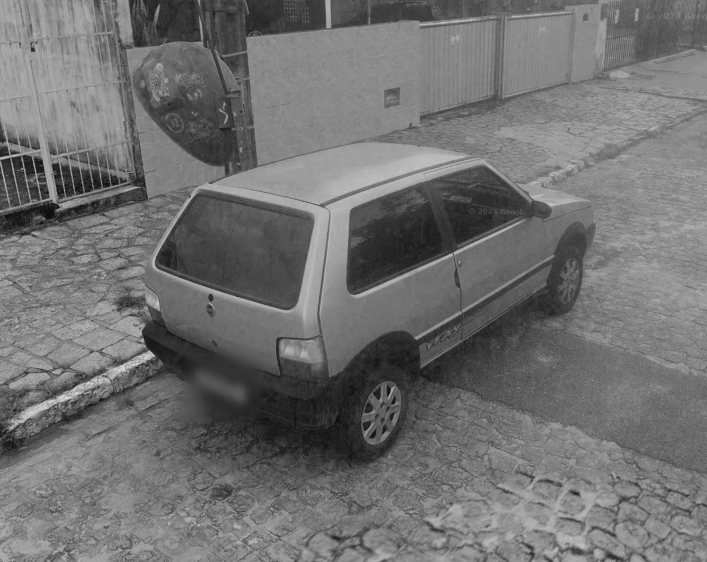car: (141, 140, 598, 458)
